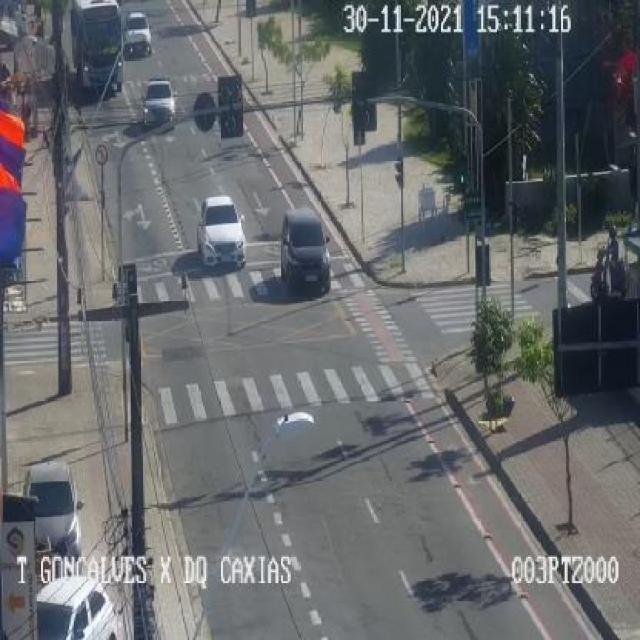Bus: (68, 1, 124, 98)
Car: (21, 461, 82, 558), (36, 576, 122, 640), (280, 208, 332, 294), (196, 197, 246, 268), (142, 80, 175, 126), (122, 11, 151, 57)
